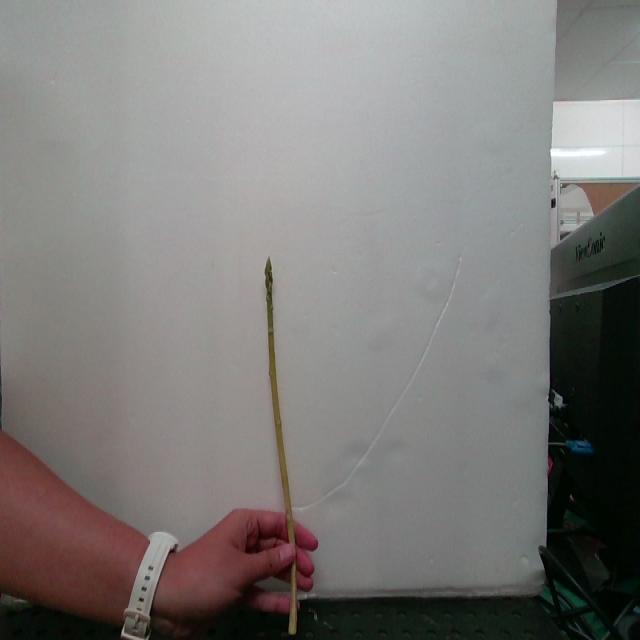aspargus: (266, 260, 295, 541)
